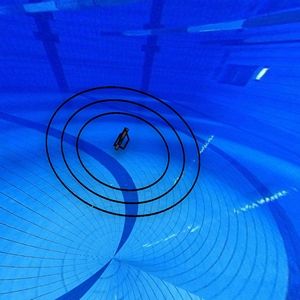circle: (41, 83, 207, 225)
submarine: (107, 122, 133, 157)
